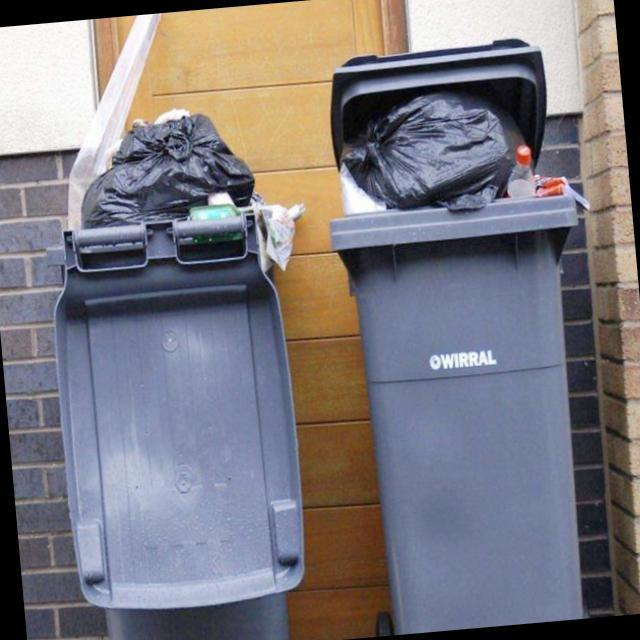garbage: (73, 104, 314, 292), (322, 84, 594, 240)
